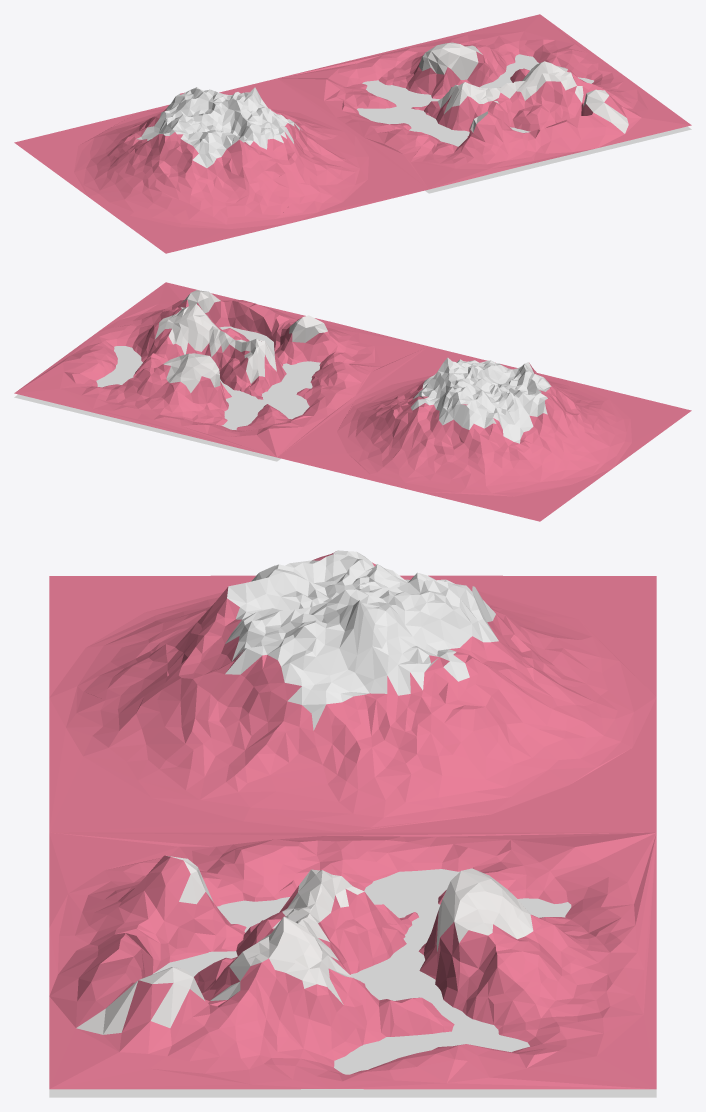
The model's file is HuiLand 1.fbx.
3 views of the same model, one above another, from view 1: azimuth 30°, elevation 25°; view 2: azimuth 150°, elevation 25°; view 3: azimuth 270°, elevation 25° (orthographic). The views are drawn at different scales.
Parts seen in each view (by area): view 1: Landscape.002, Landscape, Landscape_plane; view 2: Landscape.002, Landscape, Landscape_plane; view 3: Landscape.002, Landscape, Landscape_plane.
Boxes of the visible parts, x1=… form: Landscape.002: x1=14, y1=78, x2=428, y2=253; Landscape: x1=277, y1=14, x2=691, y2=189; Landscape_plane: x1=357, y1=54, x2=691, y2=193; Landscape.002: x1=277, y1=346, x2=691, y2=521; Landscape: x1=14, y1=282, x2=428, y2=457; Landscape_plane: x1=14, y1=326, x2=320, y2=461; Landscape.002: x1=49, y1=550, x2=656, y2=832; Landscape: x1=49, y1=832, x2=656, y2=1089; Landscape_plane: x1=49, y1=869, x2=656, y2=1097.
Size of the model in its own units: 400 by 60.44 by 200.
